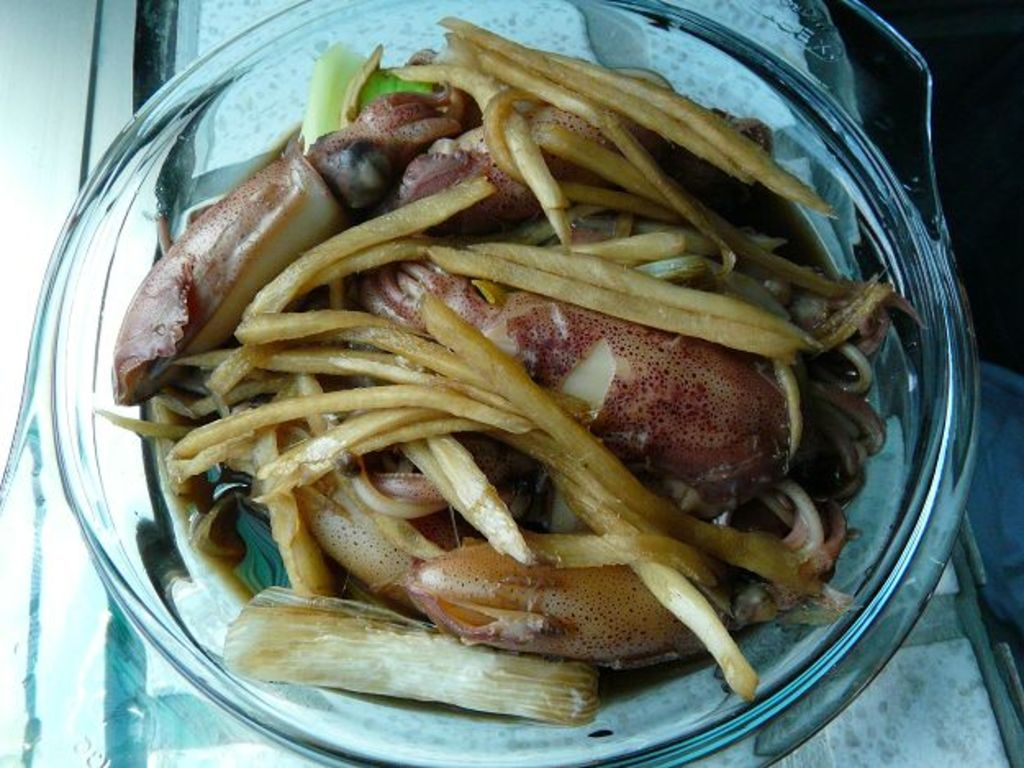French fries: (211, 62, 896, 425)
